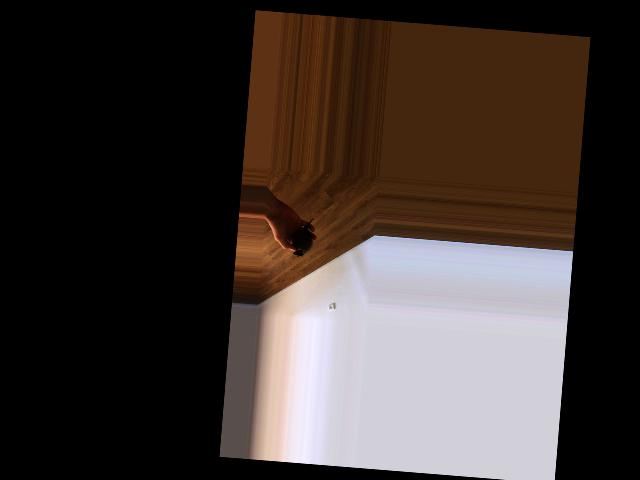beet: (289, 217, 315, 257)
